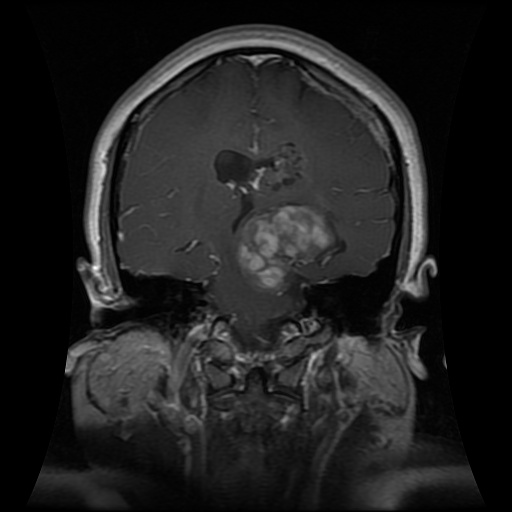glioma: (234, 199, 346, 293)
